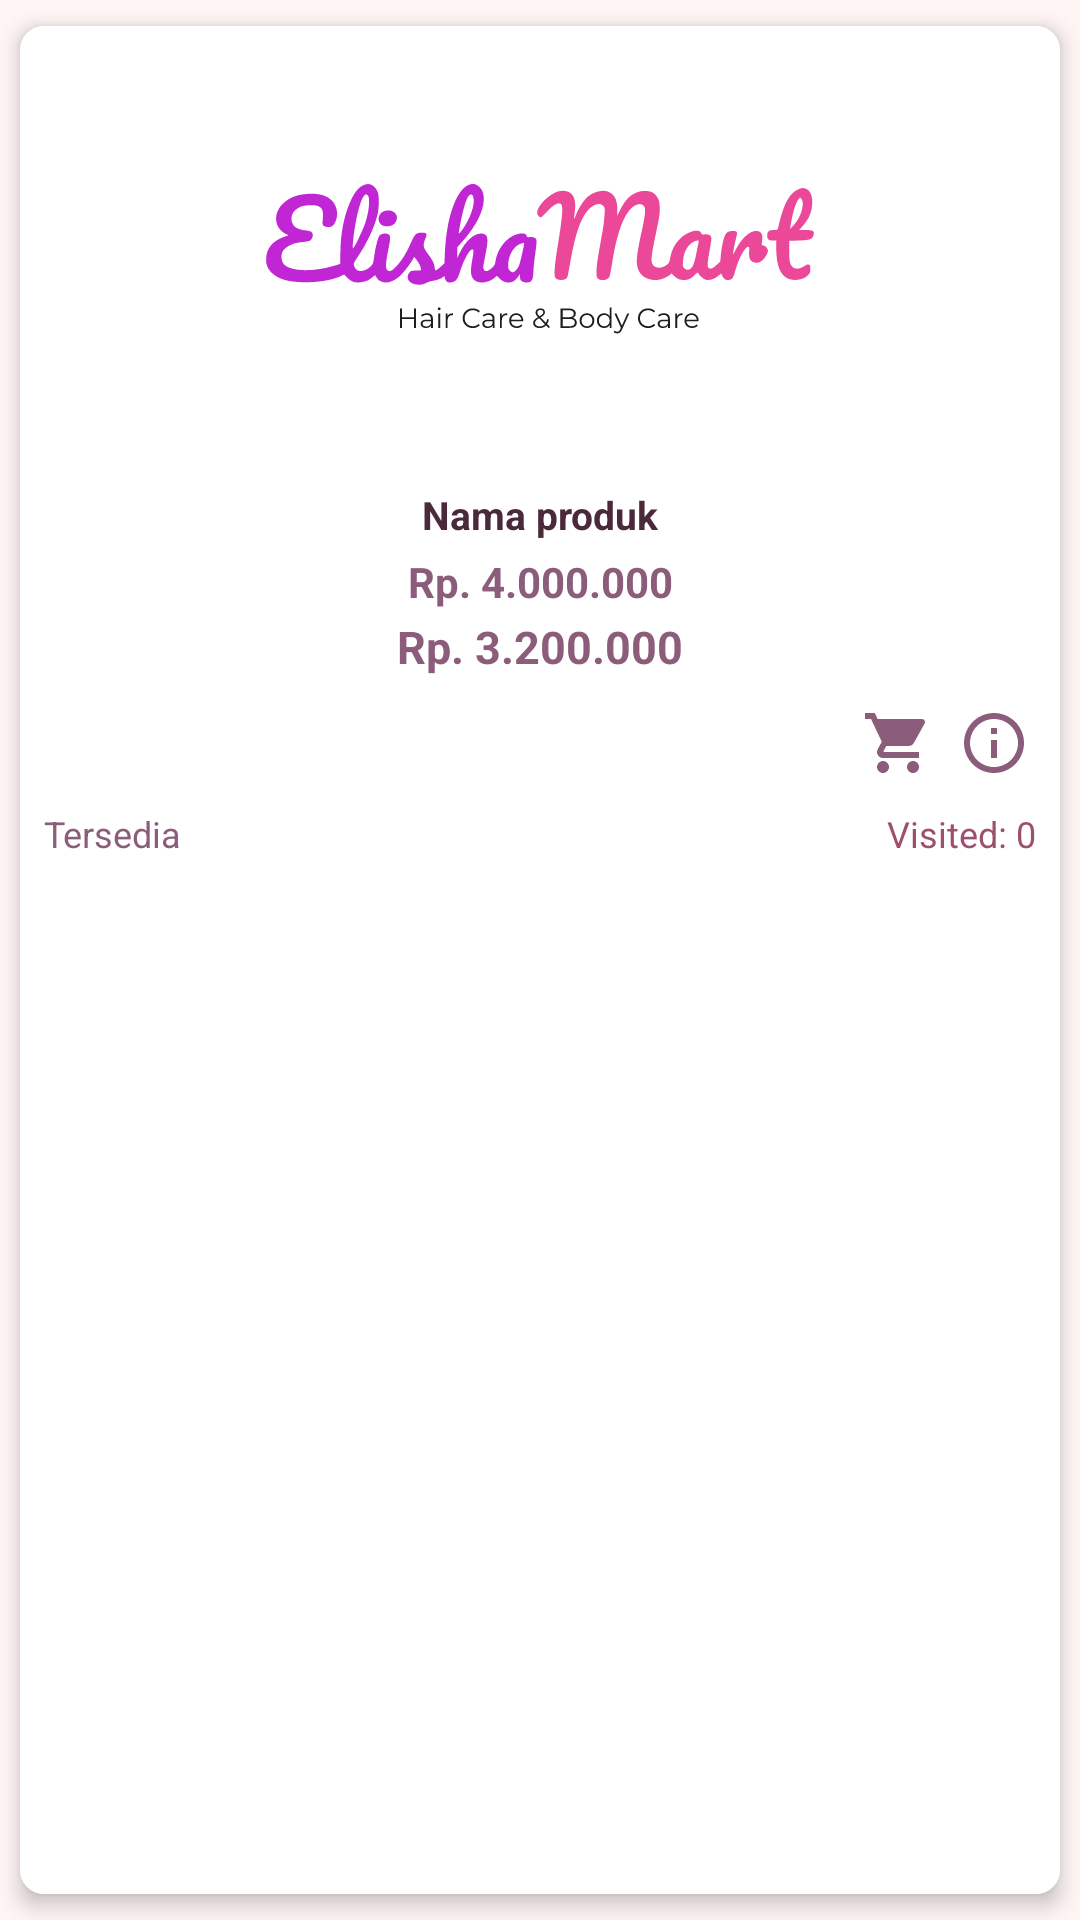

Named icons in this screenshot (1080px x 1920px) and their bounding boxes, {"left": x1, "top": y1, "right": x2, "bottom": y2}:
Add to cart: {"left": 865, "top": 713, "right": 925, "bottom": 773}
View details: {"left": 964, "top": 713, "right": 1024, "bottom": 773}
